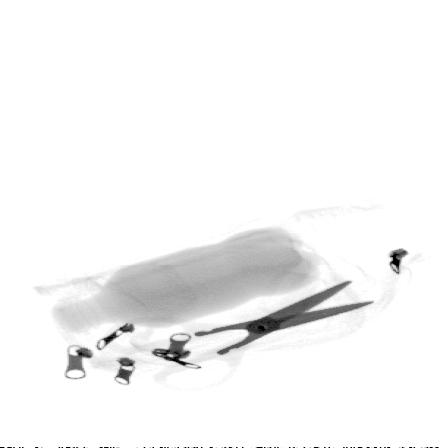Scissors: (140, 280, 373, 379)
